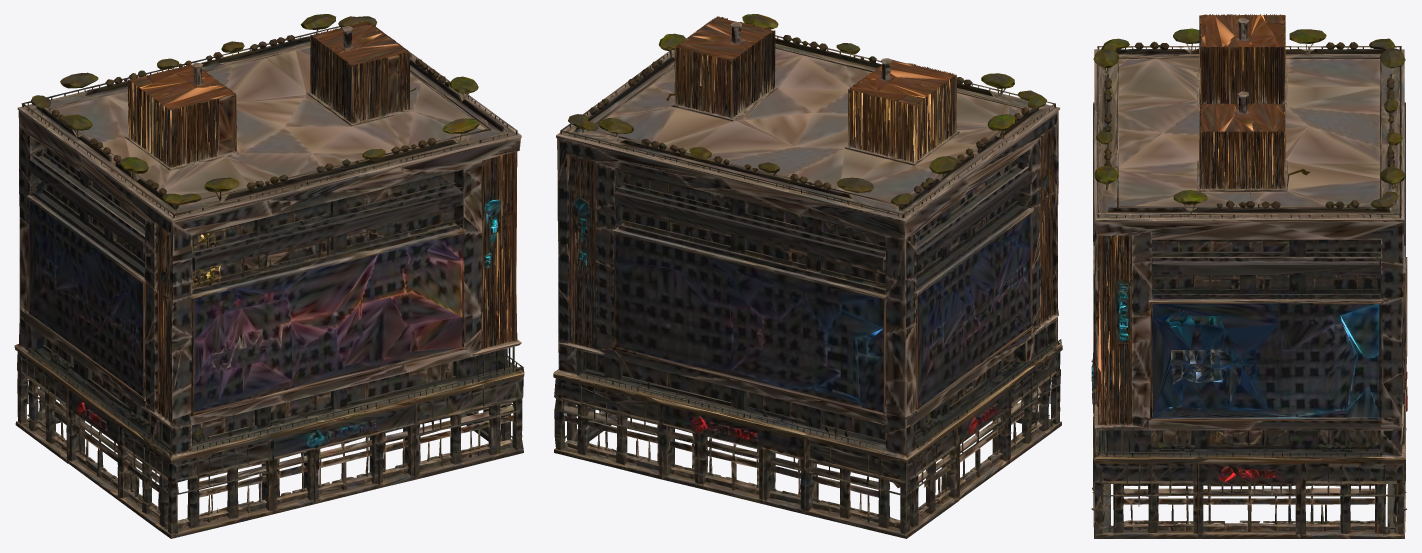
3 renders of one model, left to right at view 1: azimuth 30°, elevation 25°; view 2: azimuth 150°, elevation 25°; view 3: azimuth 270°, elevation 25°, orthographic.
Parts seen in each view (by area): view 1: r03; view 2: r03; view 3: r03.
Boxes of the visible parts, x1=… form: r03: x1=14, y1=14, x2=524, y2=538; r03: x1=553, y1=14, x2=1062, y2=538; r03: x1=1091, y1=14, x2=1407, y2=538.
Size of the model in its own units: 94.47 by 100 by 72.54.
1 material, 1 textured.
